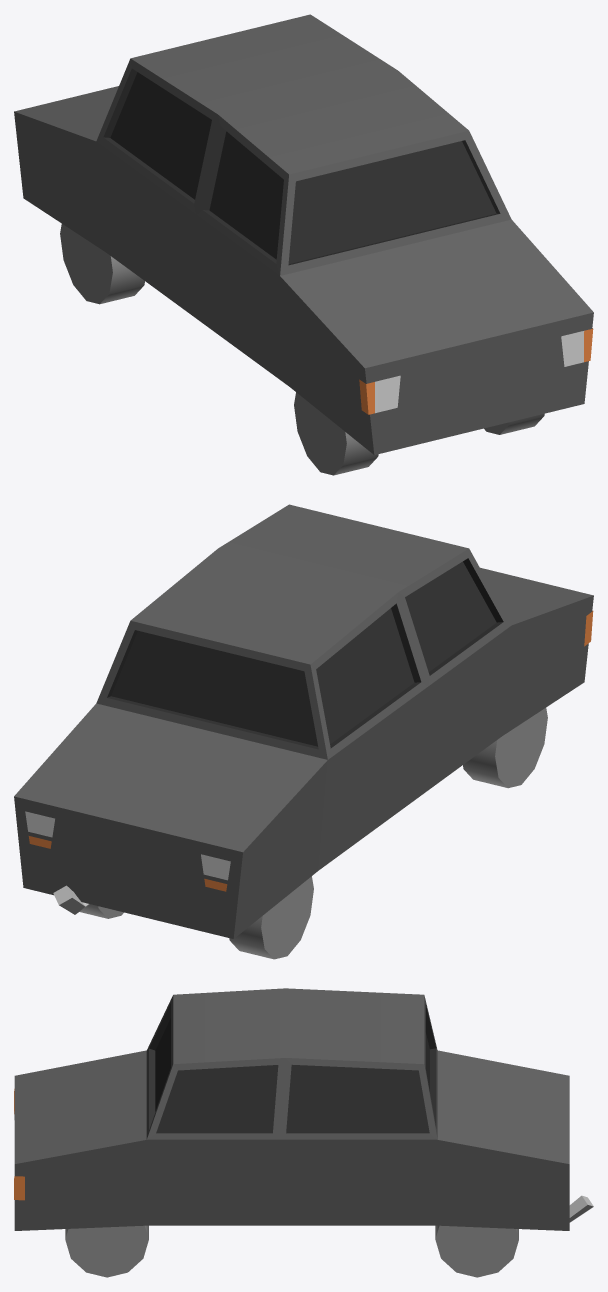
File: car_09.fbx
The picture shows the model from 3 angles, top to bottom: view 1: azimuth 30°, elevation 25°; view 2: azimuth 150°, elevation 25°; view 3: azimuth 270°, elevation 25°; orthographic projection. The views are drawn at different scales.
Parts seen in each view (by area): view 1: car_09; view 2: car_09; view 3: car_09.
Boxes of the visible parts, box(x1,y1,x2,y2) form: car_09: box(14, 14, 593, 475); car_09: box(14, 504, 593, 959); car_09: box(14, 988, 593, 1277).
Size of the model in its own units: 1.6 by 1.8 by 4.39.
